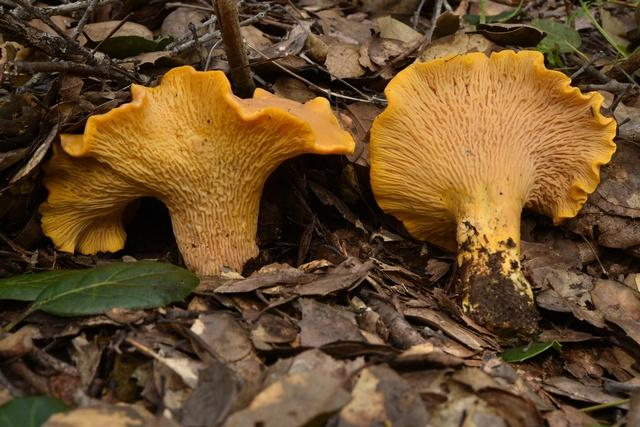edible_mushroom: (367, 47, 618, 342), (37, 63, 356, 278)
